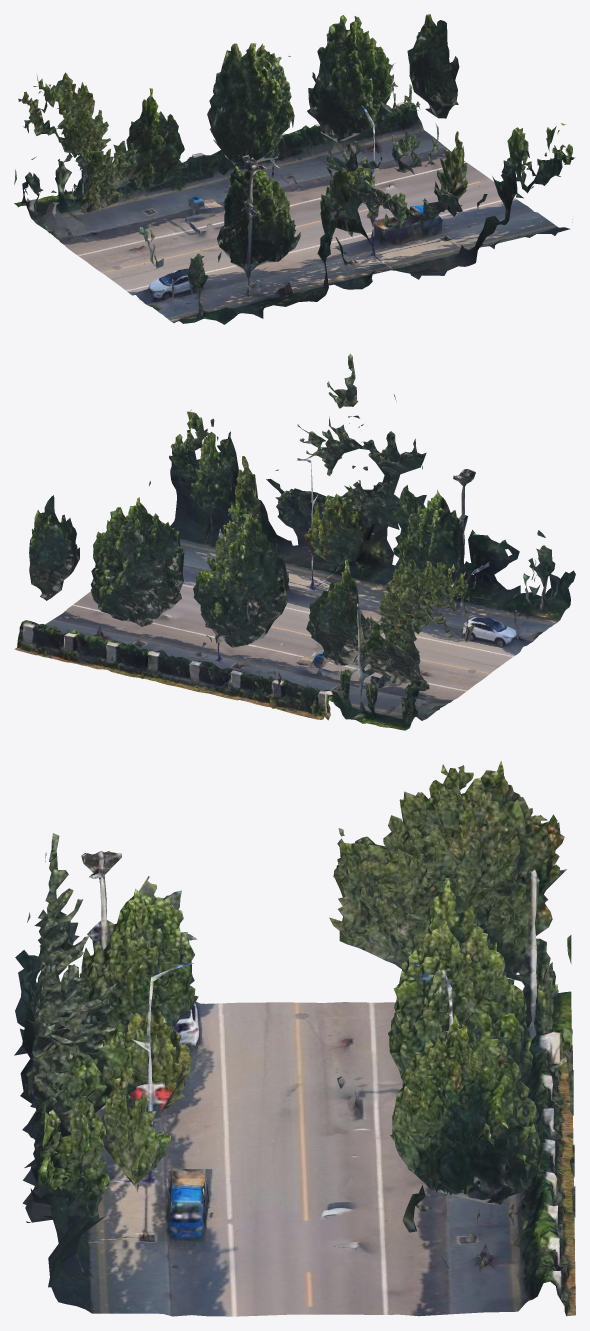
File: Tile_+006_+007_L20_00020t3.glb
The picture shows the model from 3 angles, top to bottom: view 1: azimuth 30°, elevation 25°; view 2: azimuth 150°, elevation 25°; view 3: azimuth 270°, elevation 25°; orthographic projection. The views are drawn at different scales.
Parts seen in each view (by area): view 1: rtc; view 2: rtc; view 3: rtc.
Part boxes in pixels (<box>): rtc: <box>14,14,574,324</box>; rtc: <box>14,353,575,730</box>; rtc: <box>14,761,575,1316</box>.
Size of the model in its own units: 35.5 by 18.96 by 27.64.
Materials: 1 (1 with a texture image).
